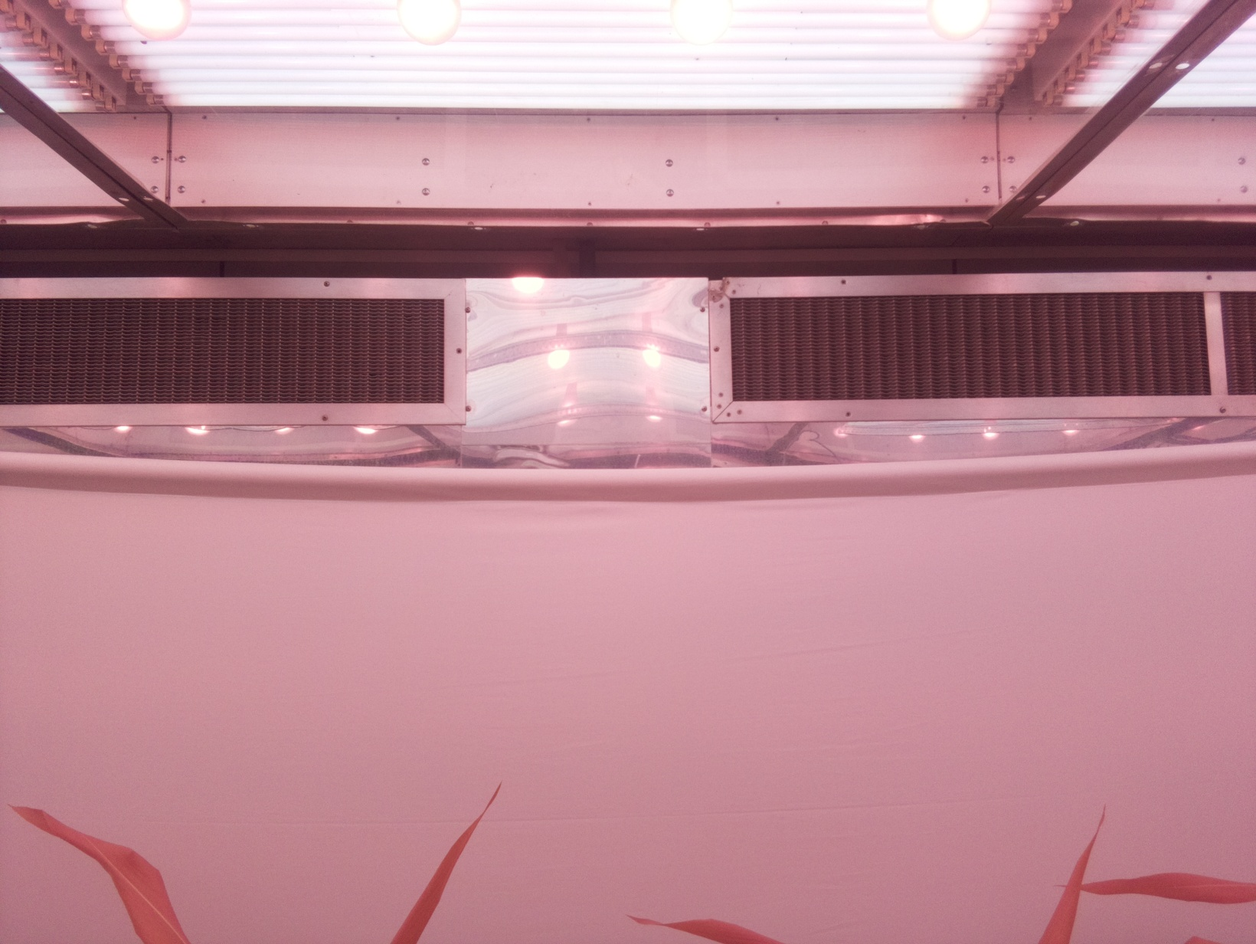maize: (624, 802, 1256, 944), (8, 780, 503, 944)
